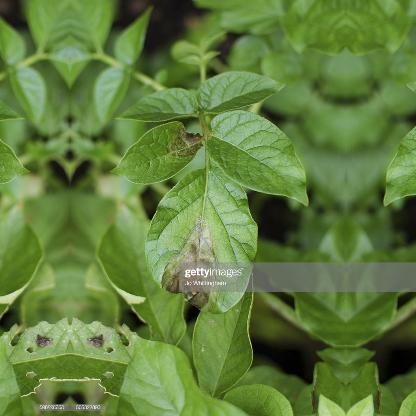Early-Blight: (146, 174, 260, 308), (110, 107, 224, 193), (74, 314, 136, 370), (2, 314, 64, 370), (0, 107, 28, 193)
